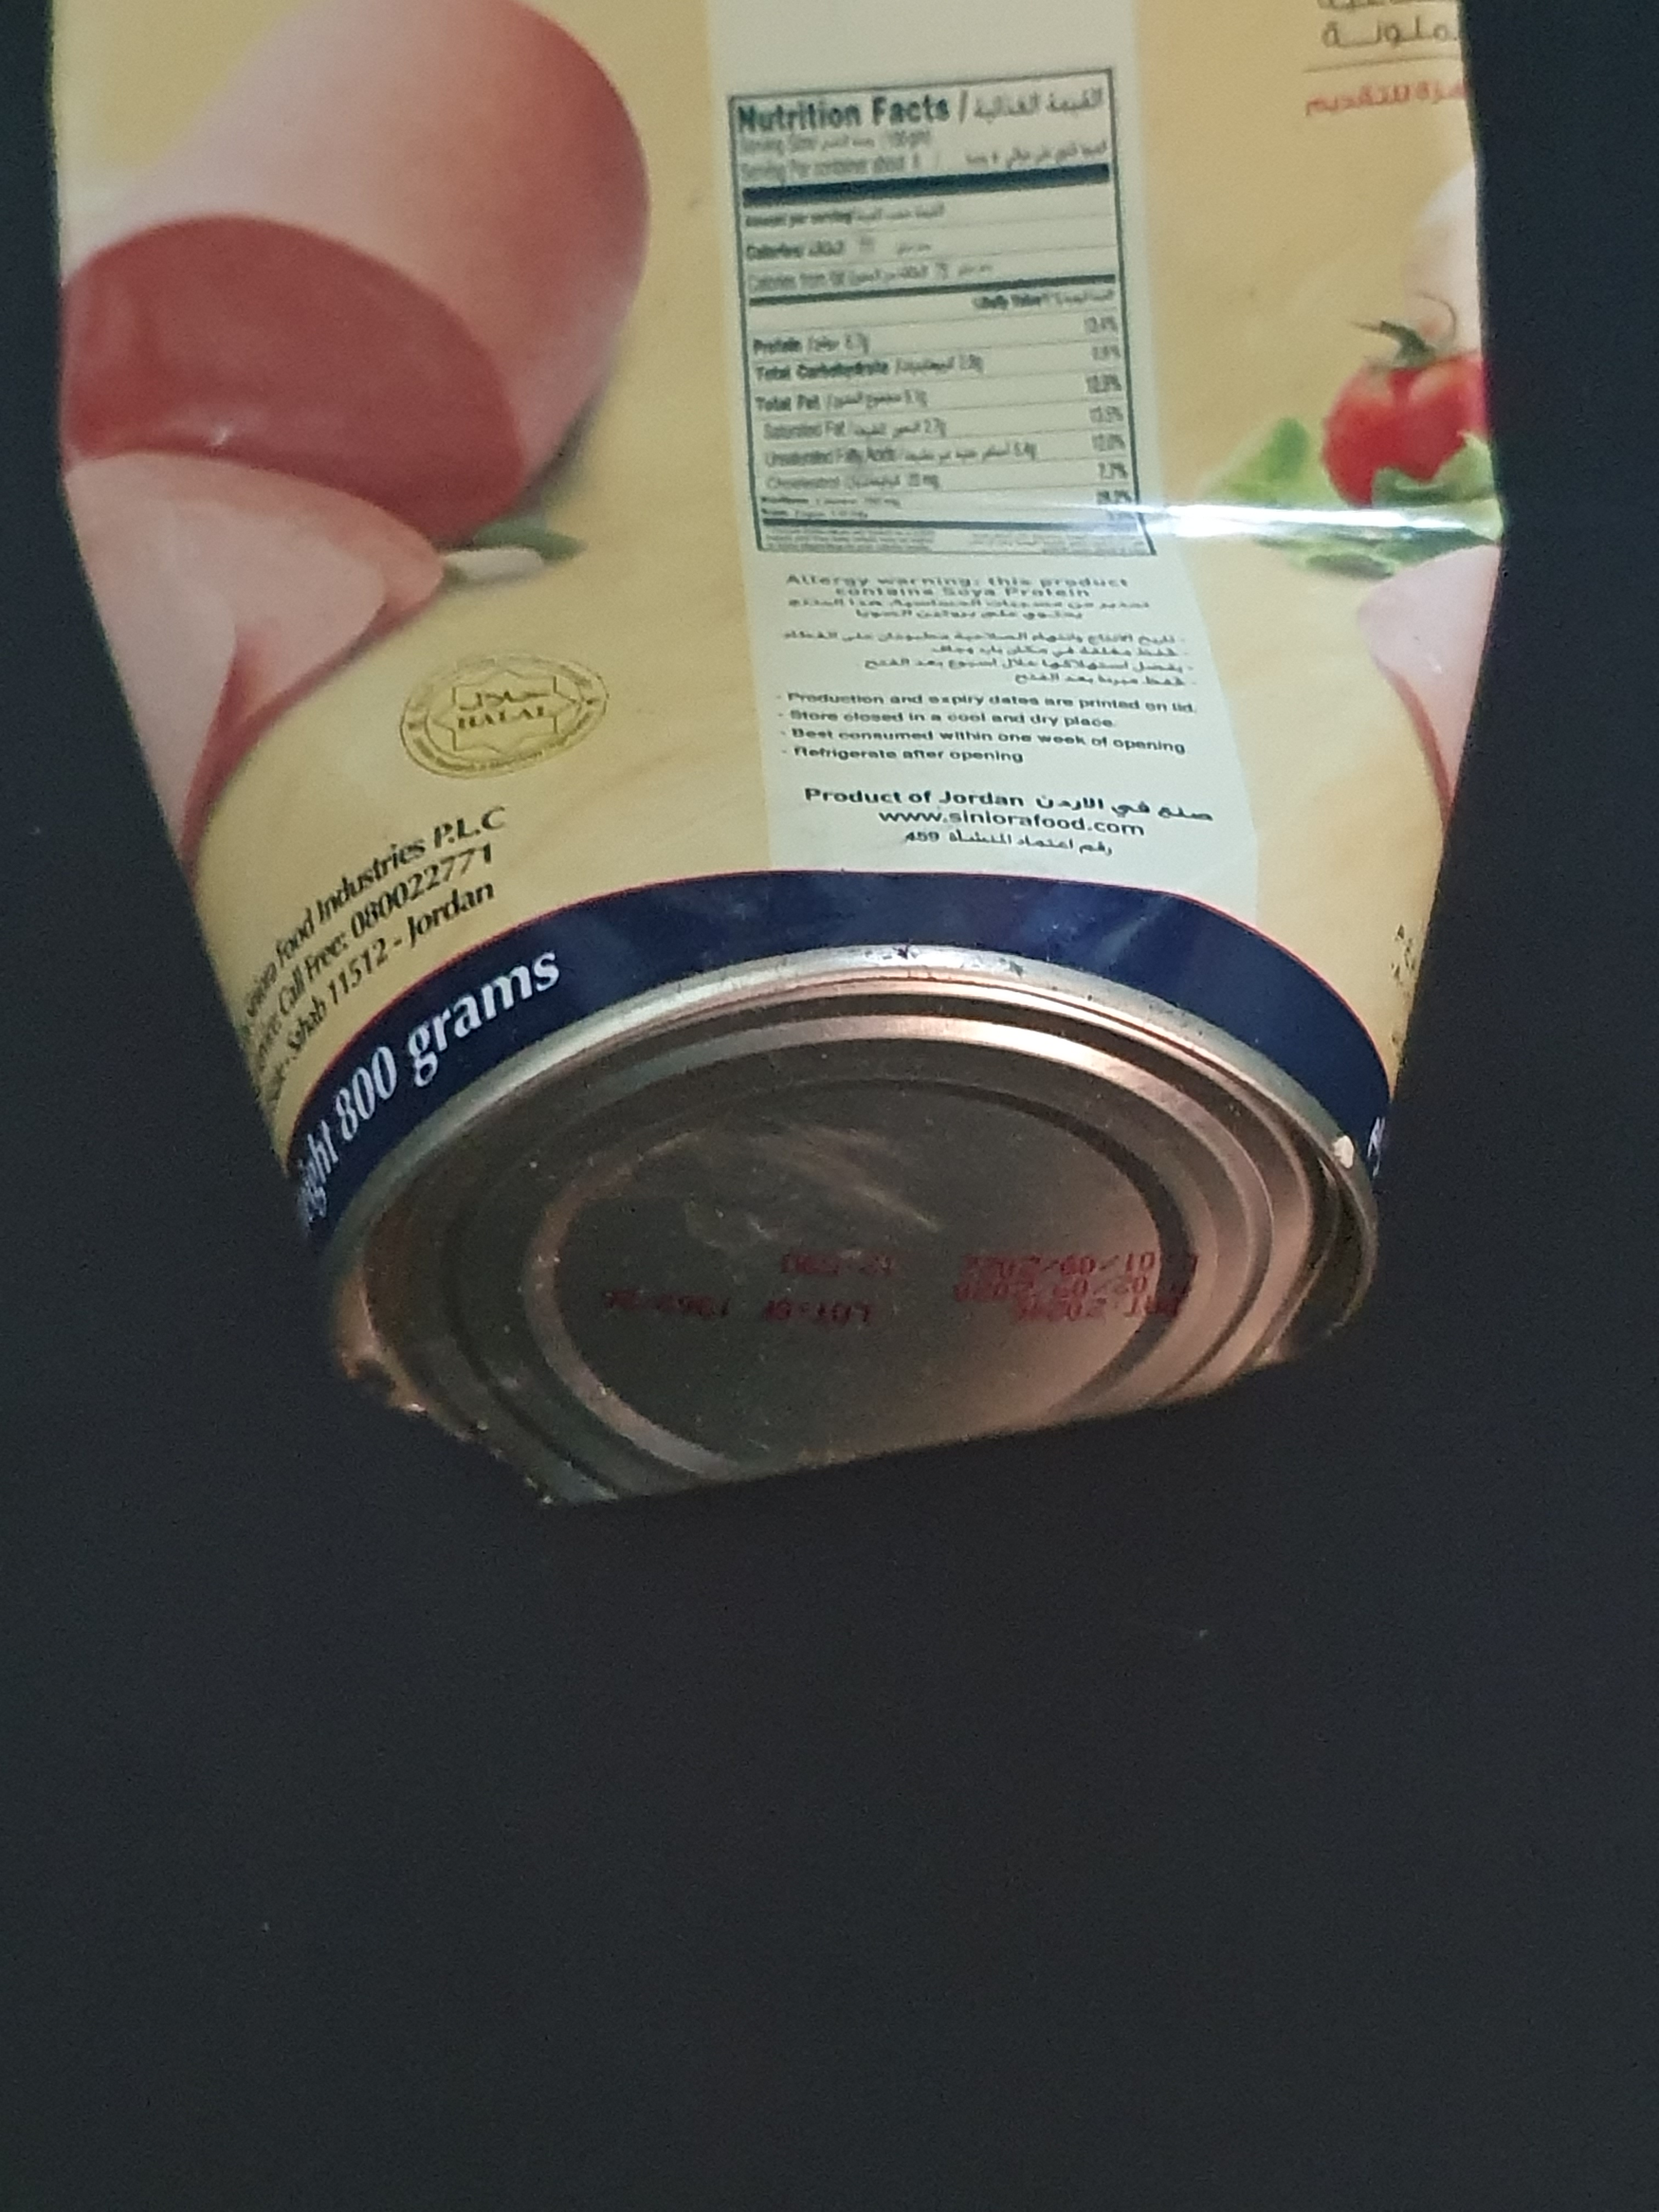metal: (9, 0, 1521, 1564)
